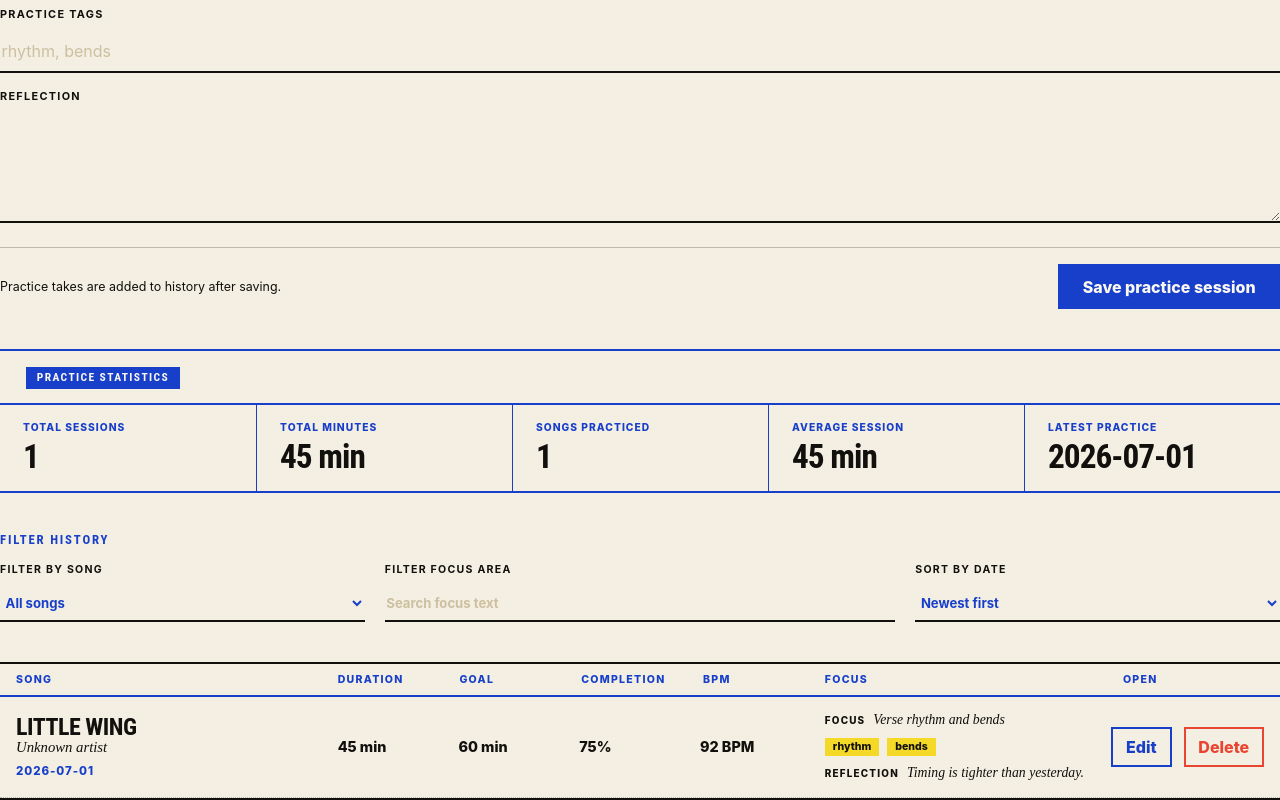
Test: PracticeHistoryPage › deletes a practice session after confirmation and refreshes the loaded history
(page scrolled)
Expected: the heading "Little Wing" is shown, x1=16 y1=713 x2=137 y2=741
What coordinates should you click on to do the following:
click the button with aria-label "Delete practice session"
I would click on:
 (1224, 747)
Its box is x1=1184 y1=727 x2=1264 y2=767.
(page scrolled)
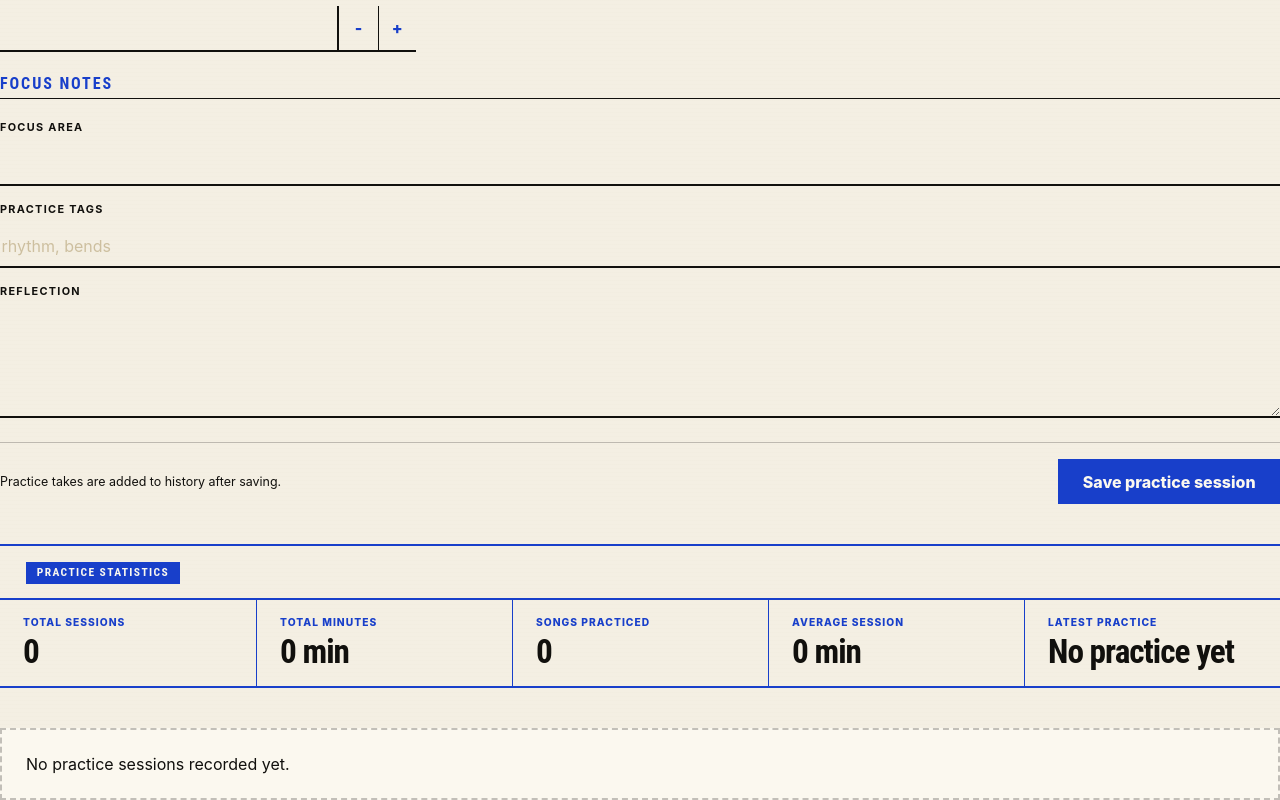
Expected: the text "No practice sessions recorded yet." is shown, x1=0 y1=728 x2=1279 y2=799
